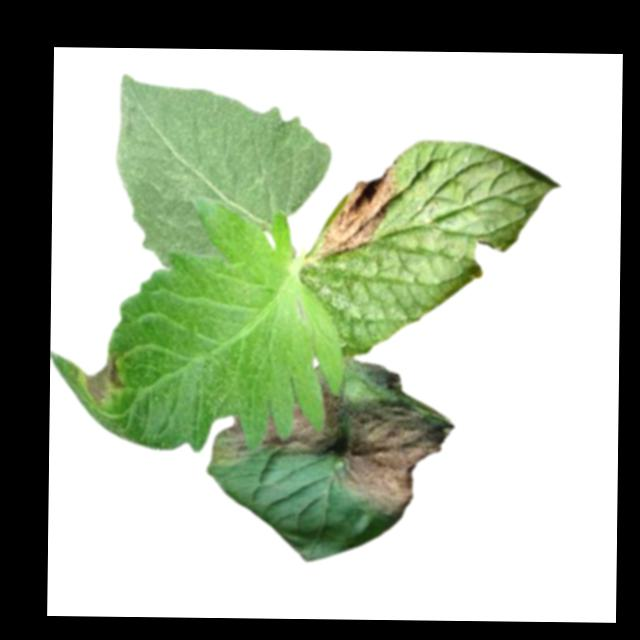Late_blight: (339, 395, 449, 519), (211, 389, 341, 466), (311, 159, 403, 265), (76, 346, 125, 408), (345, 359, 401, 394)
healthy: (114, 71, 333, 271)
